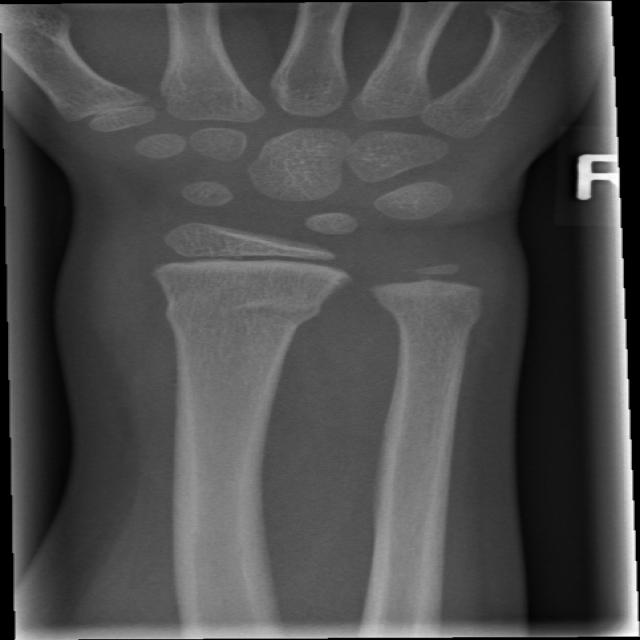radius fracture: (200, 271, 342, 344)
